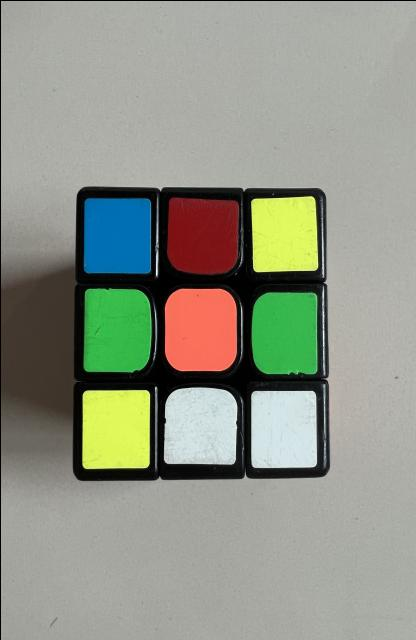Blue: (82, 198, 151, 272)
Green: (82, 288, 151, 371), (250, 291, 316, 374)
Orange: (164, 288, 236, 370)
Red: (166, 196, 238, 274)
White: (164, 386, 236, 464), (250, 390, 316, 468)
Yellow: (81, 389, 150, 469), (250, 195, 317, 271)
